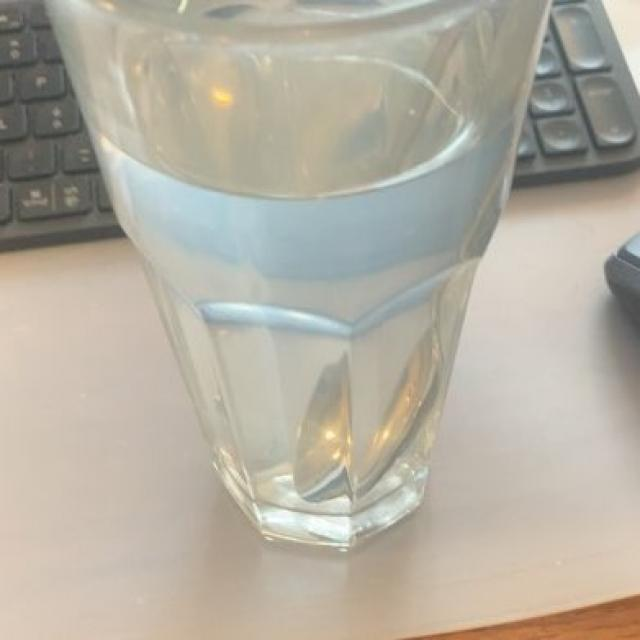drink: (110, 45, 512, 533)
